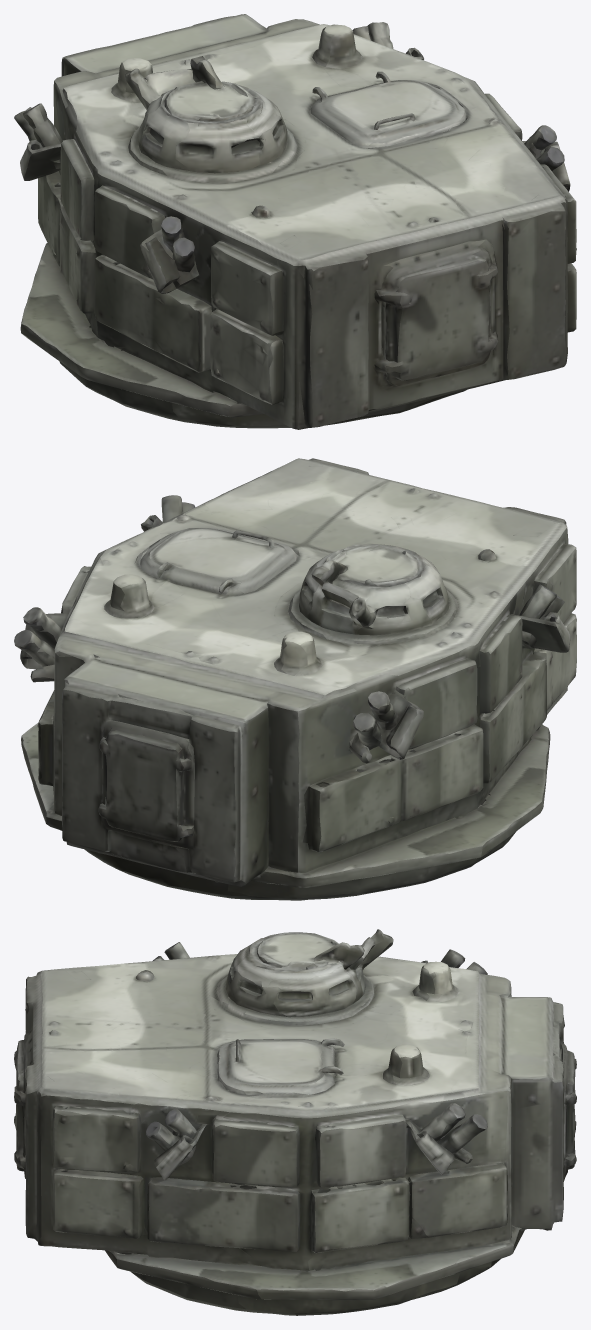
The model's file is heavy_turret_v6.glb.
3 views of the same model, one above another, from view 1: azimuth 30°, elevation 25°; view 2: azimuth 150°, elevation 25°; view 3: azimuth 270°, elevation 25° (orthographic). The views are drawn at different scales.
Visible parts, largest first — view 1: geometry_0; view 2: geometry_0; view 3: geometry_0.
Part boxes in pixels (x1,y1,x2,y2): geometry_0: (14, 14, 576, 429); geometry_0: (14, 458, 576, 900); geometry_0: (14, 929, 576, 1315).
Bounding box in the file's own units: 2.45 × 1.38 × 2.8.
1 material, 1 textured.
